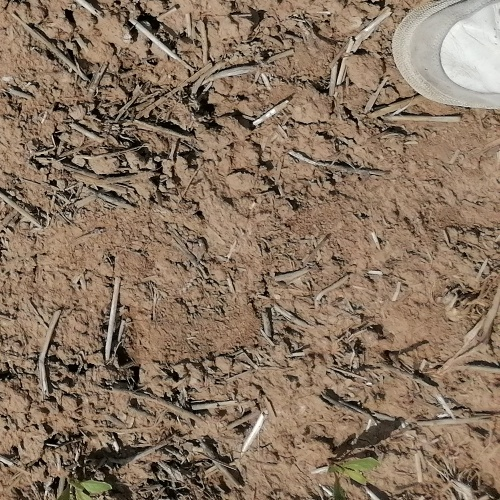beet: (327, 455, 380, 500), (58, 472, 113, 500)
